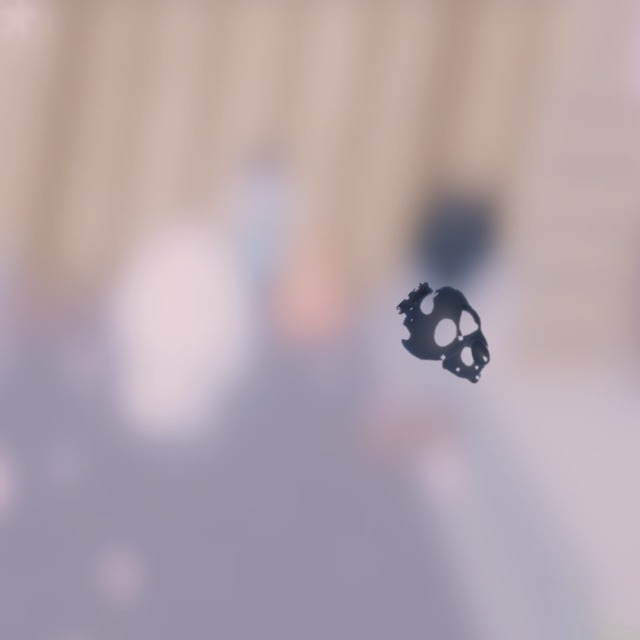urso_preto: (374, 264, 523, 412)
